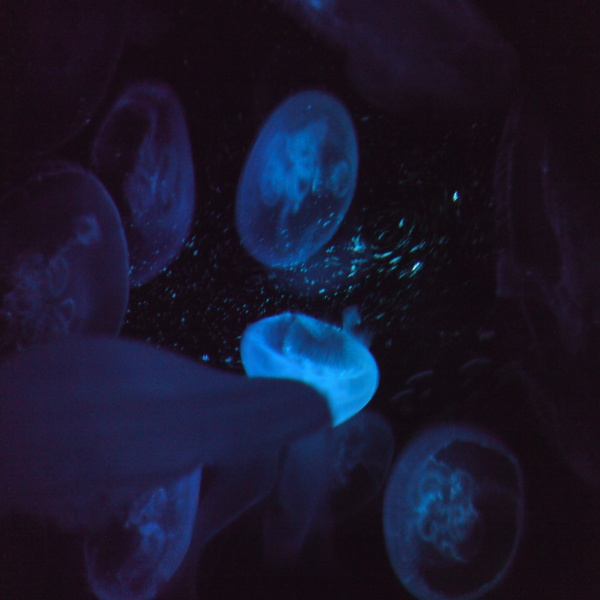Jellyfish: (0, 332, 333, 599), (382, 423, 526, 599), (231, 89, 360, 271), (0, 162, 131, 334), (87, 86, 197, 284), (239, 312, 380, 427)
